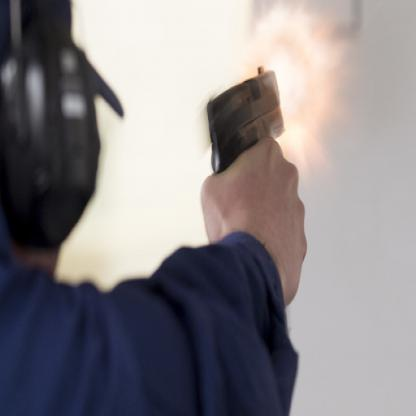gun: (206, 67, 286, 170)
